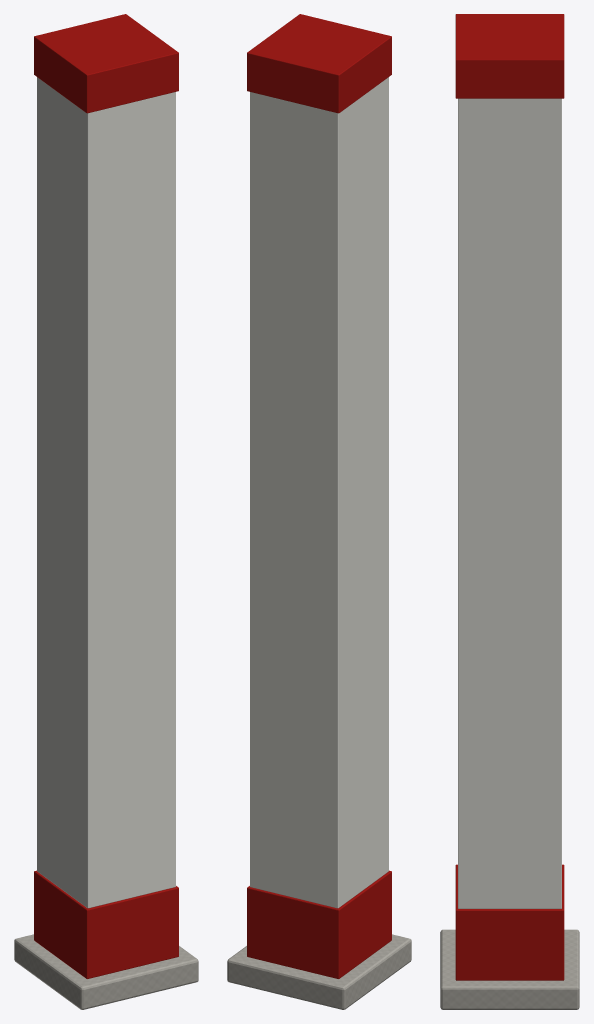
The model's file is MPS_Column_4p8m.fbx.
The picture shows the model from 3 angles, left to right: view 1: azimuth 30°, elevation 25°; view 2: azimuth 150°, elevation 25°; view 3: azimuth 270°, elevation 25°; orthographic projection.
Parts seen in each view (by area): view 1: Body; view 2: Body; view 3: Body.
Part boxes in pixels (left/top/right/bottom): Body: left=14, top=14, right=198, bottom=1009; Body: left=227, top=14, right=411, bottom=1009; Body: left=440, top=14, right=579, bottom=1009.
Size of the model in its own units: 0.64 by 4.8 by 0.64.
